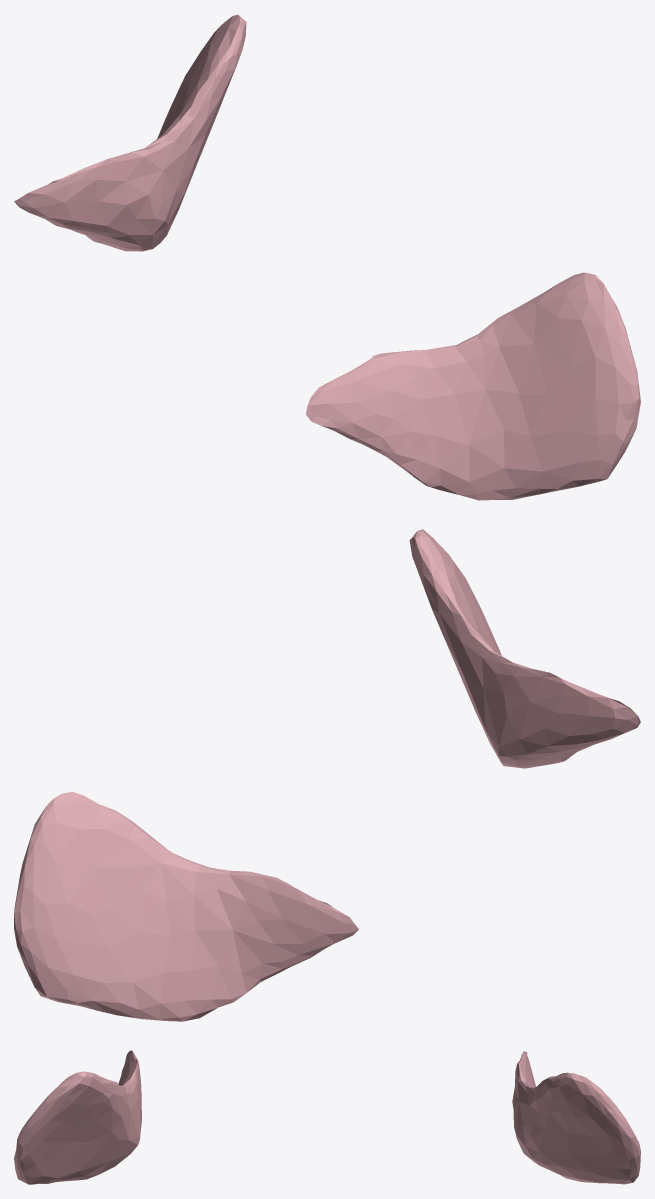
The picture shows the model from 3 angles, top to bottom: view 1: azimuth 30°, elevation 25°; view 2: azimuth 150°, elevation 25°; view 3: azimuth 270°, elevation 25°; orthographic projection. The views are drawn at different scales.
Visible parts, largest first — view 1: 560581551.obj; view 2: 560581551.obj; view 3: 560581551.obj.
Boxes of the visible parts, x1,y1,x2,y2 form: 560581551.obj: [14, 14, 640, 500]; 560581551.obj: [14, 529, 640, 1021]; 560581551.obj: [14, 1050, 640, 1184].
Size of the model in its own units: 1189 by 829 by 3380.
